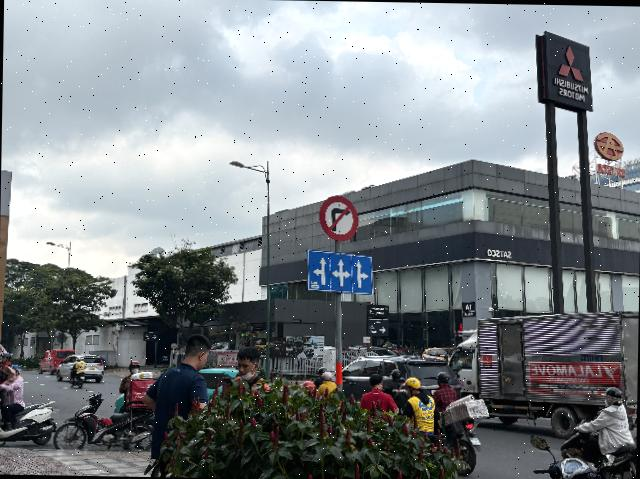cam-re-trai: (318, 194, 358, 242)
